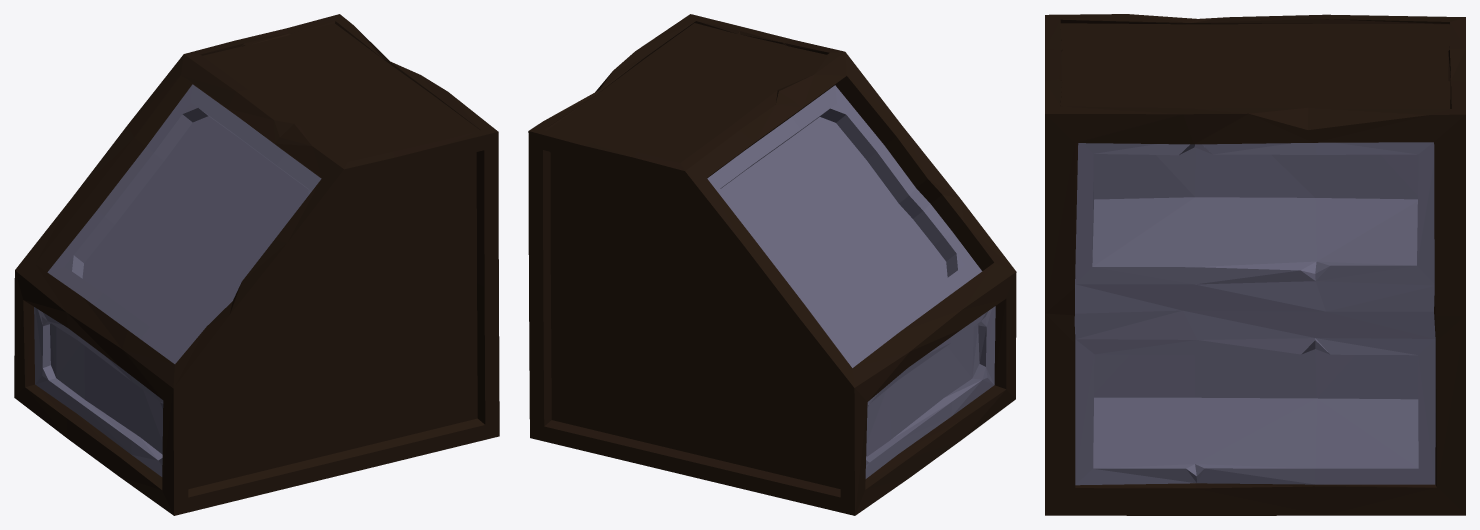
File: SFFA_Table_Modular_Top_2.fbx
3 renders of one model, left to right at view 1: azimuth 30°, elevation 25°; view 2: azimuth 150°, elevation 25°; view 3: azimuth 270°, elevation 25°, orthographic. The views are drawn at different scales.
Visible parts, largest first — view 1: SFFA_Table_Modular_Top_2; view 2: SFFA_Table_Modular_Top_2; view 3: SFFA_Table_Modular_Top_2.
Boxes of the visible parts, x1,y1,x2,y2 form: SFFA_Table_Modular_Top_2: (14, 14, 499, 515); SFFA_Table_Modular_Top_2: (528, 14, 1016, 515); SFFA_Table_Modular_Top_2: (1045, 14, 1465, 515).
Bounding box in the file's own units: 118 × 106 × 99.87.
